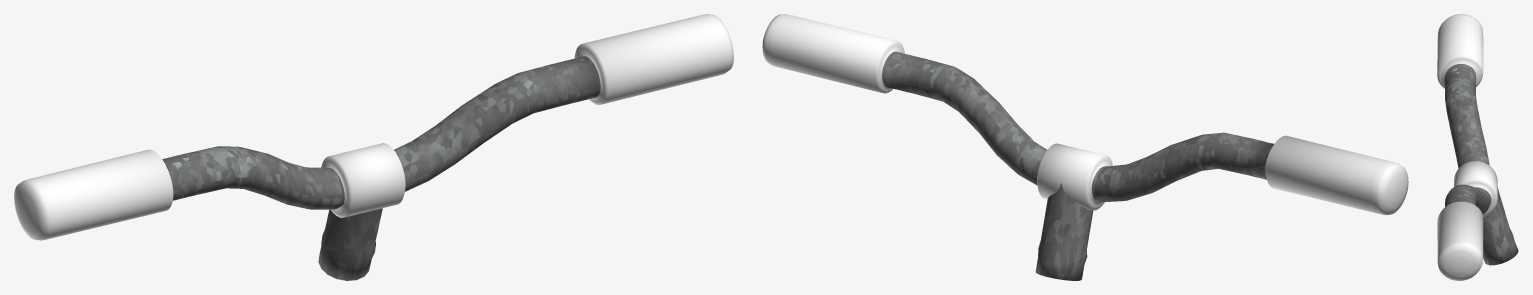
Rendered from Guidao padrao.glb.
3 renders of one model, left to right at view 1: azimuth 30°, elevation 25°; view 2: azimuth 150°, elevation 25°; view 3: azimuth 270°, elevation 25°, orthographic. The views are drawn at different scales.
Parts seen in each view (by area): view 1: Guidao; view 2: Guidao; view 3: Guidao.
Part boxes in pixels (x1,y1,x2,y2): Guidao: (14, 14, 733, 280); Guidao: (762, 14, 1408, 280); Guidao: (1437, 14, 1518, 280).
Bounding box in the file's own units: 0.5575 × 0.1475 × 0.0816.
2 materials, 1 textured.
